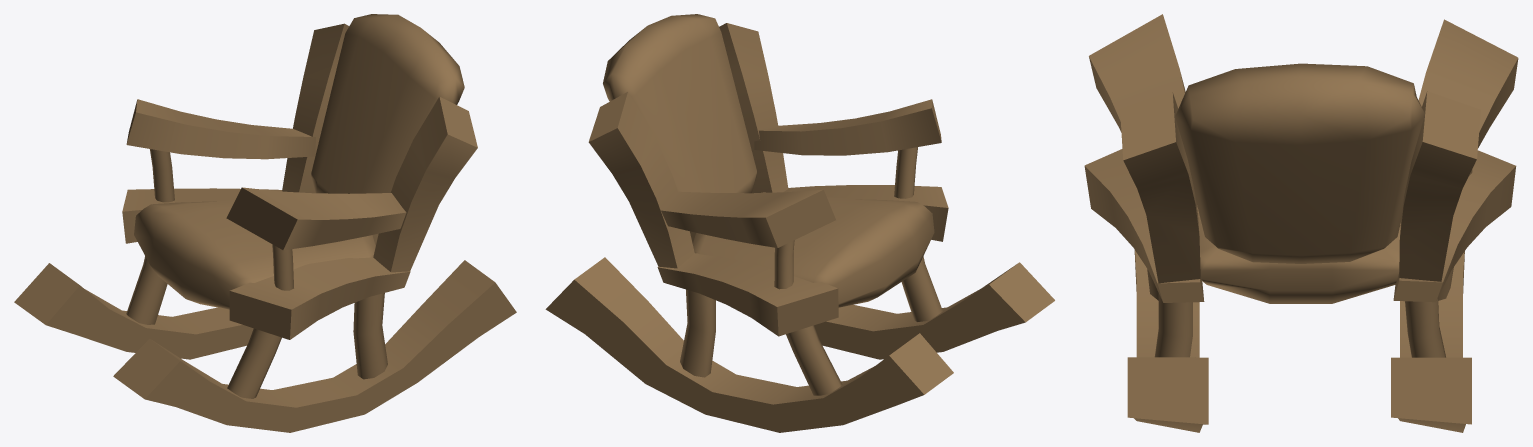
Rendered from kachalka_Lv3.fbx.
The picture shows the model from 3 angles, left to right: view 1: azimuth 30°, elevation 25°; view 2: azimuth 150°, elevation 25°; view 3: azimuth 270°, elevation 25°; orthographic projection. The views are drawn at different scales.
Visible parts, largest first — view 1: chair1; view 2: chair1; view 3: chair1.
Boxes of the visible parts, box(x1,y1,x2,y2) form: chair1: box(14, 14, 516, 432); chair1: box(545, 14, 1054, 432); chair1: box(1084, 14, 1518, 432).
Size of the model in its own units: 86.86 by 68.8 by 65.26.
